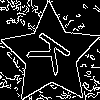K: (25, 29, 80, 83)
